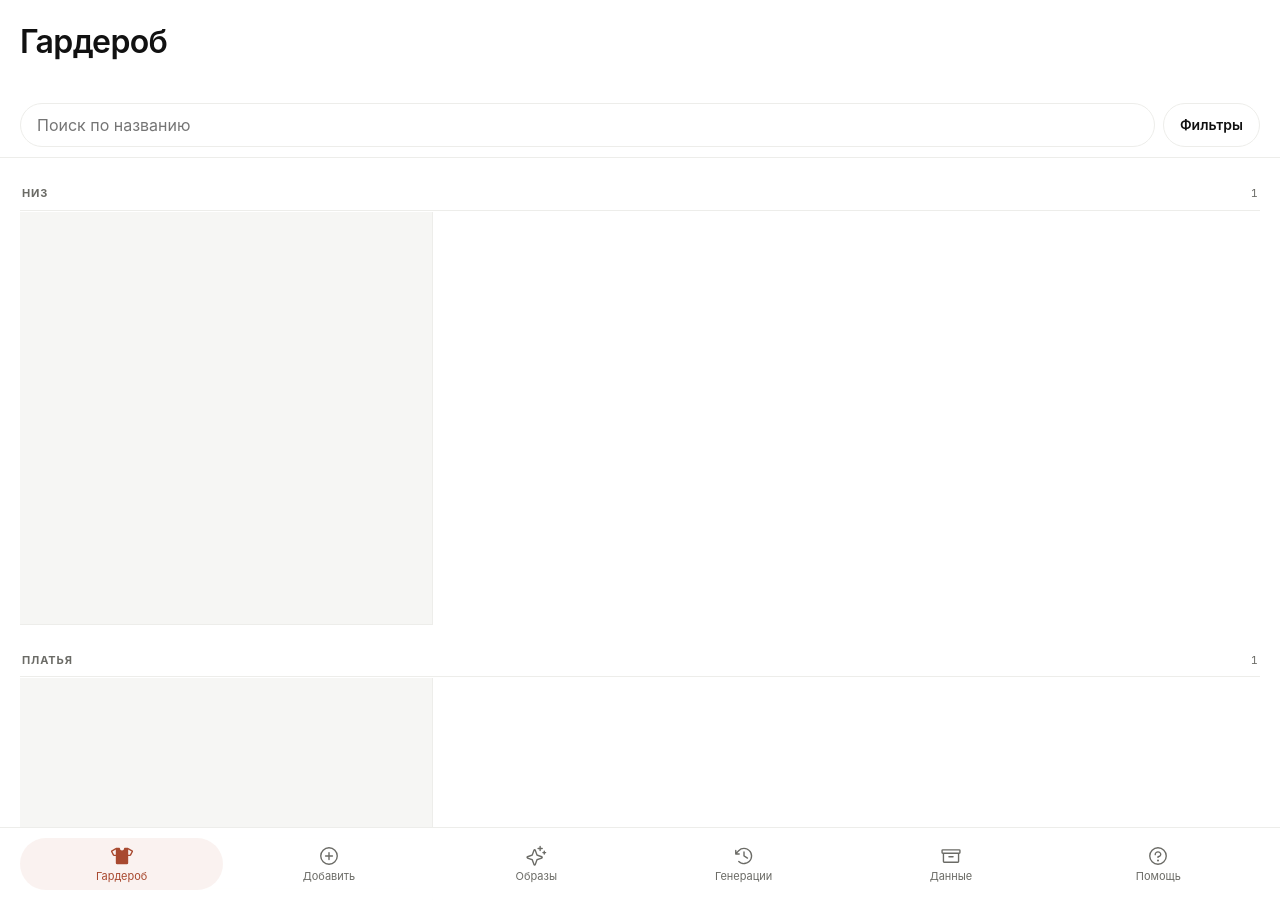
Экран гардероба (T13) › поиск по названию: регистр и «ё» не важны, список сужается
Type "ЕЛОЧКА" into the search field labelled "Поиск по названию" at (587, 125), box [20, 103, 1155, 147]
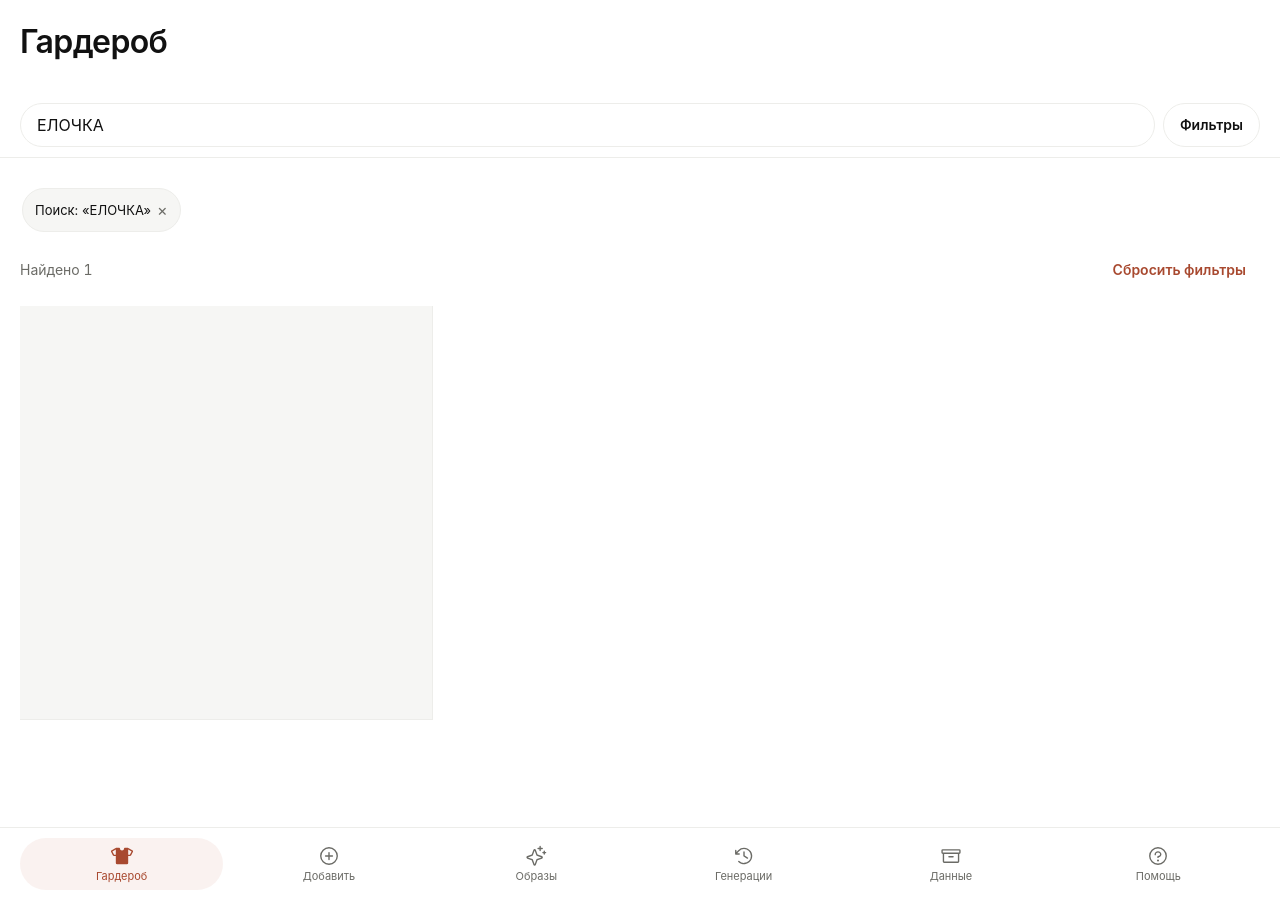
Now the text "Найдено 1" is shown, box [20, 260, 93, 280]
